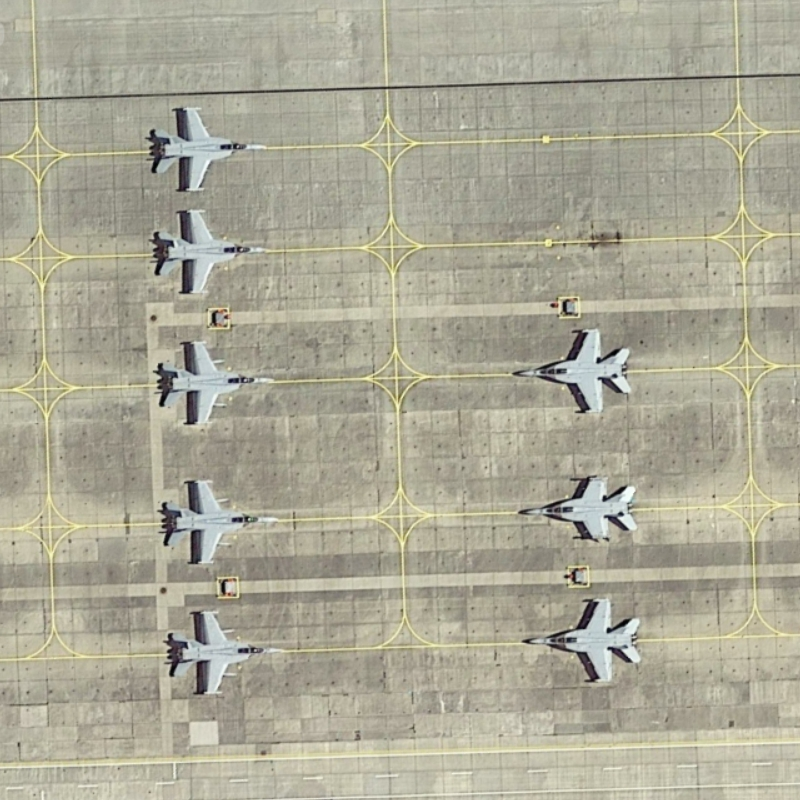A16: (499, 318, 643, 422), (161, 594, 289, 711), (148, 322, 280, 434), (154, 467, 287, 578), (515, 586, 653, 690), (137, 100, 272, 205), (141, 201, 277, 305), (515, 462, 643, 553)
